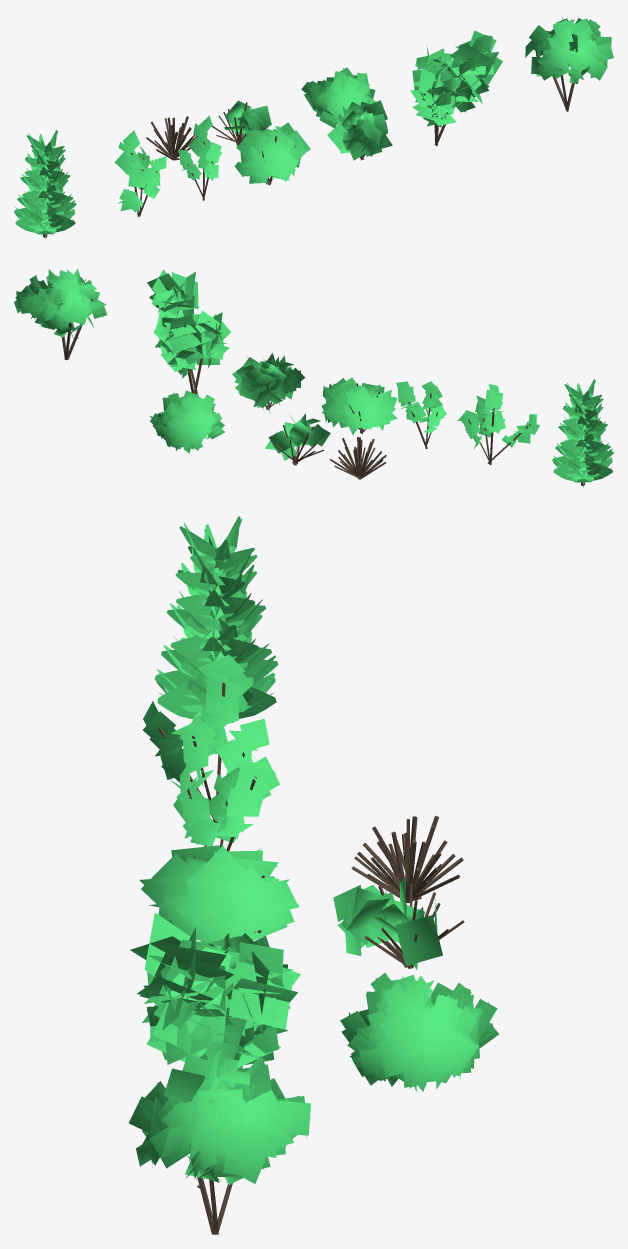
Rendered from Bushes.fbx.
3 renders of one model, top to bottom at view 1: azimuth 30°, elevation 25°; view 2: azimuth 150°, elevation 25°; view 3: azimuth 270°, elevation 25°, orthographic. The views are drawn at different scales.
Parts seen in each view (by area): view 1: Red Bush, Bush 5, Evergreen Bush, Bush 2, Bush 1, Herb Bush, Bush 4, Bush 3, Dead Bush 2, Dead Bush 1; view 2: Red Bush, Bush 5, Evergreen Bush, Bush 2, Herb Bush, Bush 1, Bush 4, Dead Bush 2, Bush 3, Dead Bush 1; view 3: Bush 5, Red Bush, Evergreen Bush, Herb Bush, Bush 2, Bush 4, Dead Bush 2, Bush 3, Dead Bush 1.
Part boxes in pixels (x1,y1,x2,y2): Red Bush: (410,30,502,145); Bush 5: (525,16,613,111); Evergreen Bush: (14,130,76,239); Bush 2: (234,122,310,185); Bush 1: (327,100,392,160); Herb Bush: (301,67,376,128); Bush 4: (114,130,166,216); Bush 3: (178,115,221,200); Dead Bush 2: (211,100,271,145); Dead Bush 1: (146,116,197,160); Red Bush: (147,269,230,394); Bush 5: (14,268,106,360); Evergreen Bush: (552,379,613,487); Bush 2: (321,377,397,434); Herb Bush: (149,390,225,453); Bush 1: (232,353,305,414); Bush 4: (457,384,539,465); Dead Bush 2: (265,413,330,465); Bush 3: (396,381,446,448); Dead Bush 1: (330,436,386,479); Bush 5: (129,1048,310,1234); Red Bush: (130,912,300,1069); Evergreen Bush: (154,516,278,722); Herb Bush: (340,973,498,1091); Bush 2: (139,845,299,942); Bush 4: (143,654,269,822); Dead Bush 2: (333,877,464,969); Bush 3: (169,756,280,851); Dead Bush 1: (351,815,463,902).
Bounding box in the file's own units: 6356 × 1184 × 1740.
